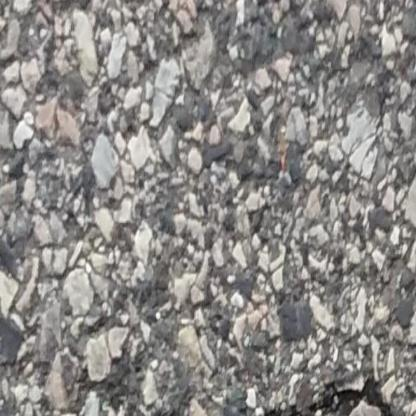Cracks: (242, 378, 410, 416), (154, 398, 192, 416)
